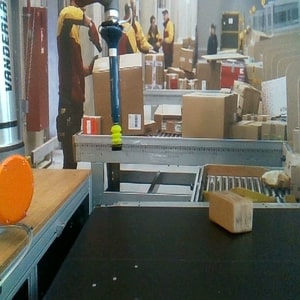box: (207, 190, 254, 234)
